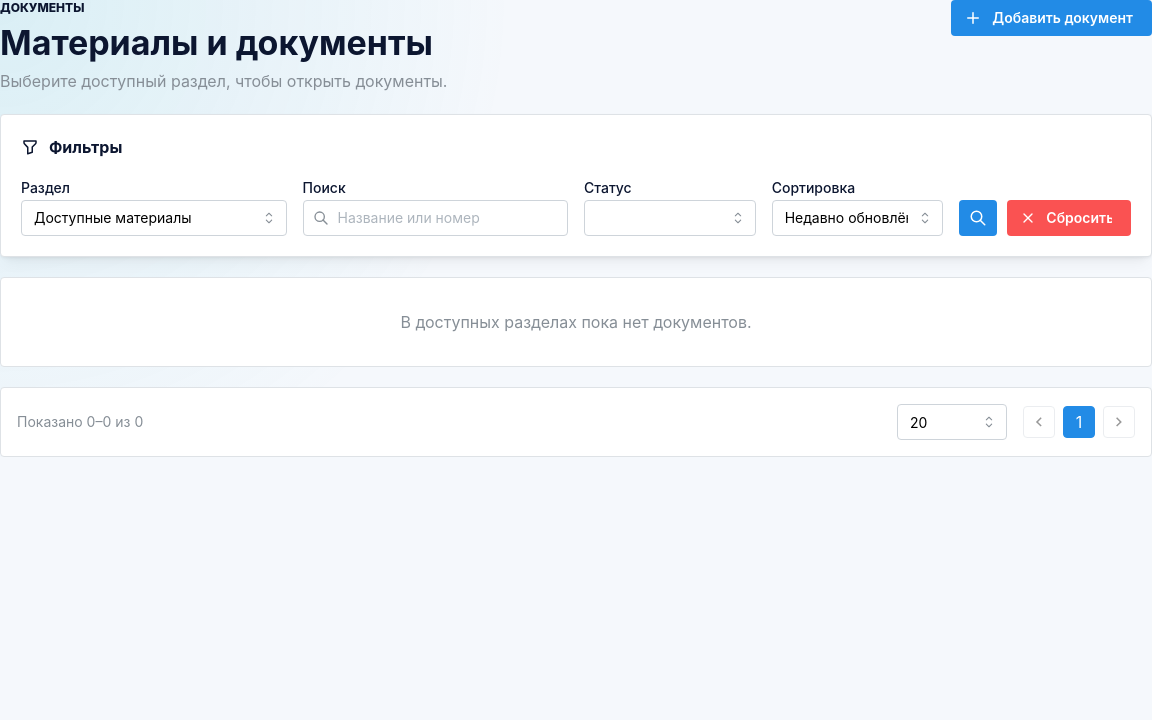
Scenario: document mutation entry points › opens the Mantine creation drawer
The image size is (1152, 720).
Click the button "Добавить документ". click: [1052, 18]
box: [951, 0, 1151, 36]
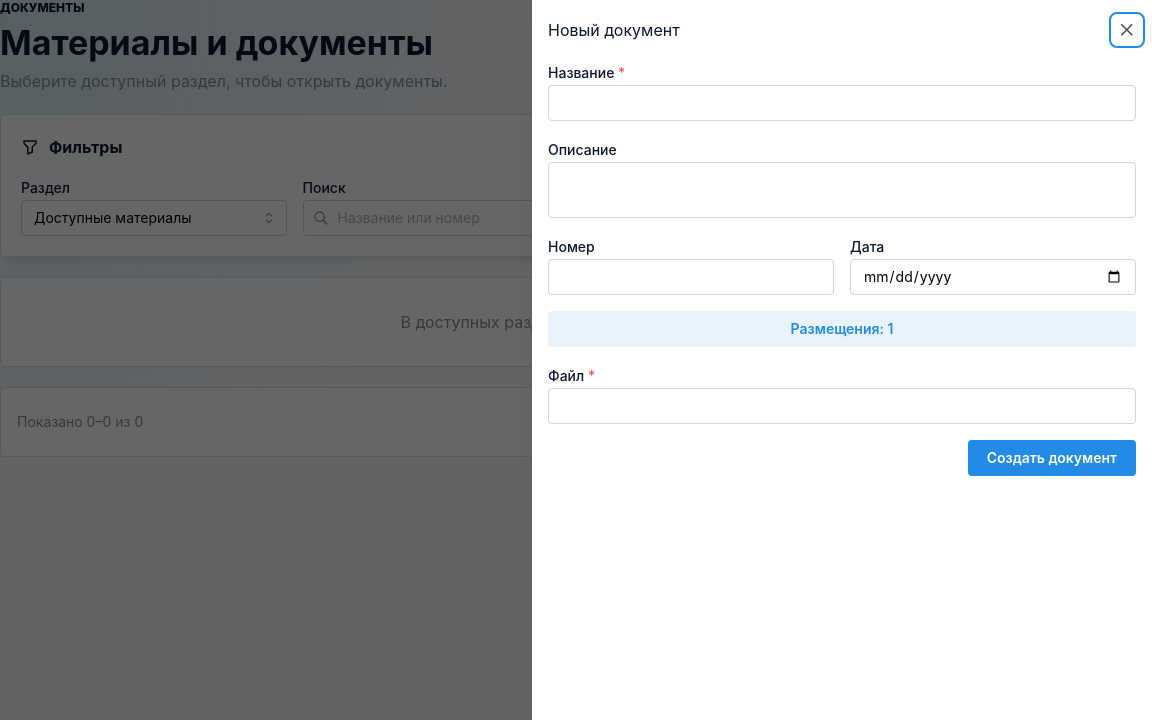
Expected: the heading "Новый документ" is shown, [548, 22, 680, 38]
